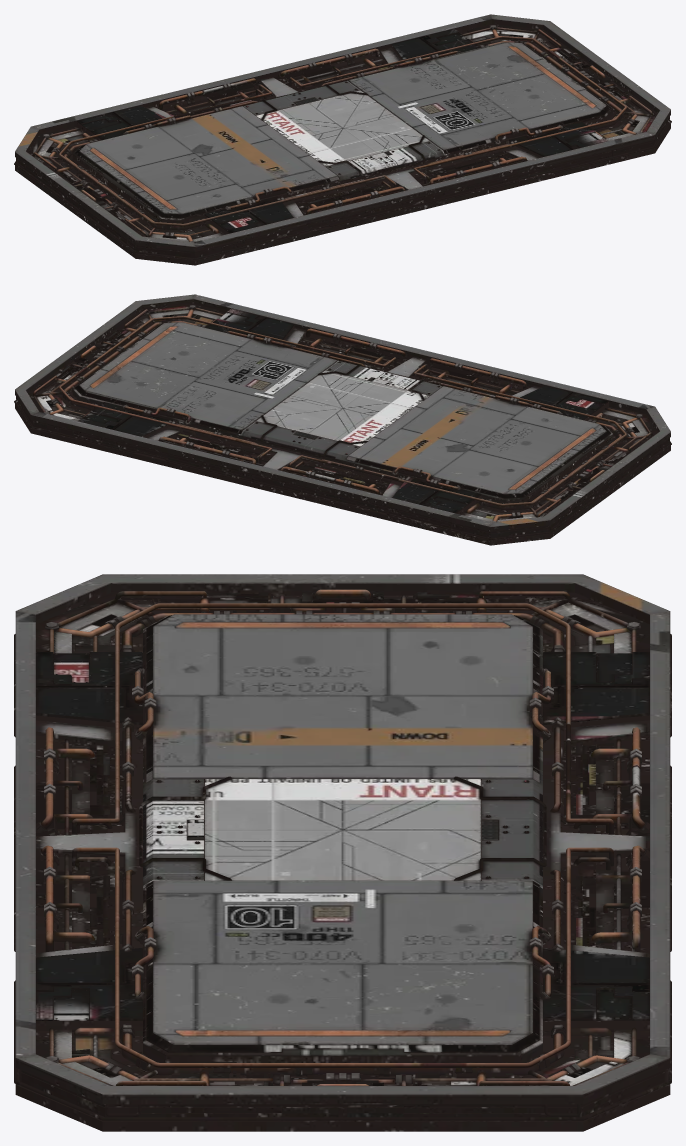
The picture shows the model from 3 angles, top to bottom: view 1: azimuth 30°, elevation 25°; view 2: azimuth 150°, elevation 25°; view 3: azimuth 270°, elevation 25°; orthographic projection. The views are drawn at different scales.
Visible parts, largest first — view 1: chip.001_low_mat_0; view 2: chip.001_low_mat_0; view 3: chip.001_low_mat_0.
Part boxes in pixels (x1,y1,x2,y2): chip.001_low_mat_0: (14, 14, 671, 265); chip.001_low_mat_0: (14, 294, 671, 545); chip.001_low_mat_0: (14, 574, 671, 1131).
Size of what is drawn, in the model's own units: 3.52 by 0.1616 by 1.87.
Materials: 1 (1 with a texture image).
